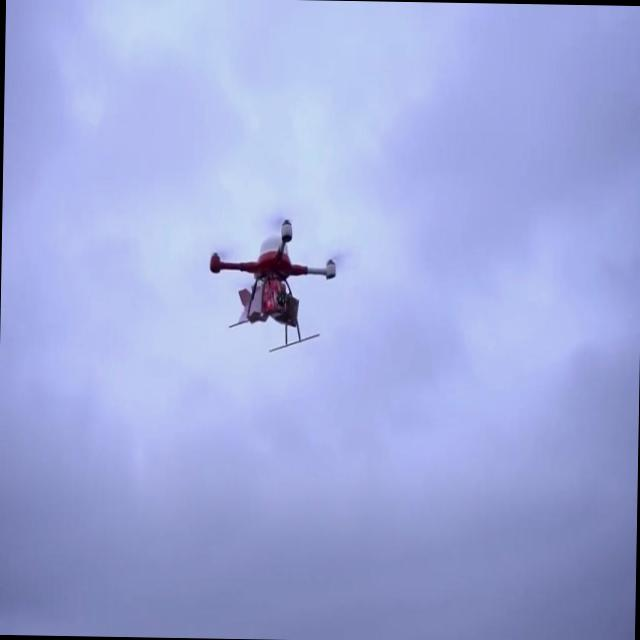drone: (206, 215, 336, 356)
